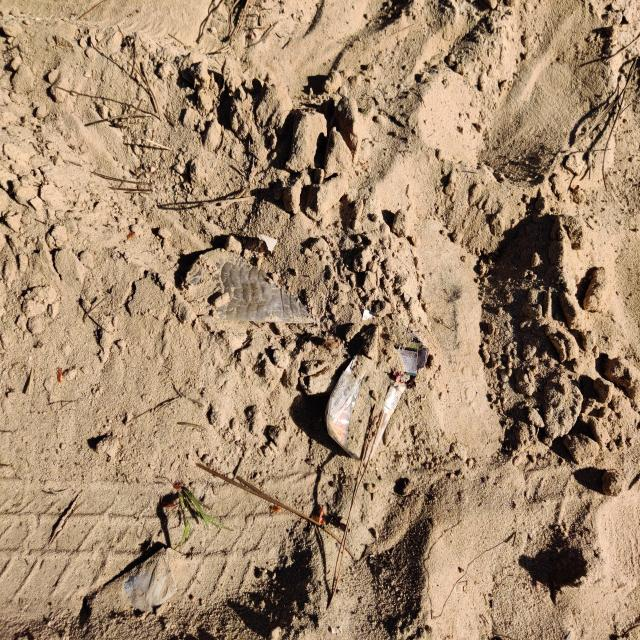litter: (325, 311, 427, 462), (89, 552, 203, 635), (192, 254, 315, 324)
